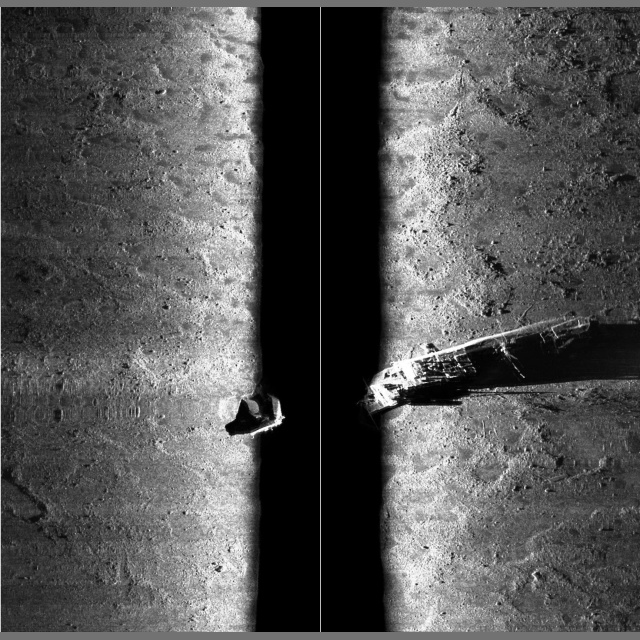Shipwreck: (162, 213, 591, 440)
